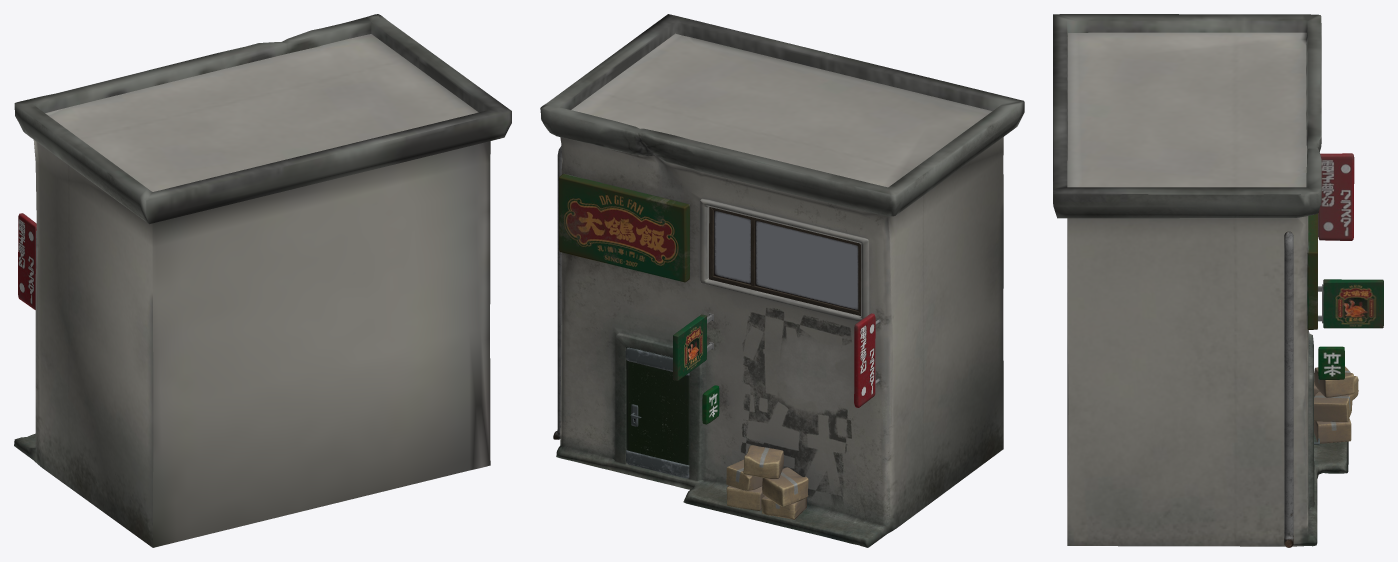
3 renders of one model, left to right at view 1: azimuth 30°, elevation 25°; view 2: azimuth 150°, elevation 25°; view 3: azimuth 270°, elevation 25°, orthographic. The views are drawn at different scales.
Parts seen in each view (by area): view 1: Build13_lp, Build4_lp; view 2: Build13_lp, Build1_lp, Build_2_final__0011:Build21_lp, Build2_lp, Build4_lp, Build_2_final__0011:Build19_lp, Build5_lp, Build14_lp, Build6_lp, Build_2_final__0011:Build18_lp, Build15_lp, Build9_lp (+3 smaller); view 3: Build13_lp, Build_2_final__0011:Build18_lp, Build5_lp, Build4_lp, Build1_lp, Build8_lp, Build3_lp, Build9_lp, Build15_lp.
Boxes of the visible parts, x1,y1,x2,y2 form: Build13_lp: [14, 14, 511, 547]; Build4_lp: [18, 213, 36, 309]; Build13_lp: [540, 14, 1024, 547]; Build1_lp: [559, 173, 689, 282]; Build_2_final__0011:Build21_lp: [714, 210, 858, 310]; Build2_lp: [626, 347, 689, 465]; Build4_lp: [854, 313, 875, 407]; Build_2_final__0011:Build19_lp: [709, 207, 860, 315]; Build5_lp: [673, 314, 706, 380]; Build14_lp: [625, 347, 689, 478]; Build6_lp: [762, 467, 808, 506]; Build_2_final__0011:Build18_lp: [553, 146, 562, 439]; Build15_lp: [743, 445, 783, 478]; Build9_lp: [726, 485, 764, 510]; Build13_lp: [1053, 14, 1348, 546]; Build_2_final__0011:Build18_lp: [1284, 231, 1293, 547]; Build5_lp: [1323, 279, 1383, 328]; Build4_lp: [1318, 153, 1354, 240]; Build1_lp: [1307, 213, 1317, 329]; Build8_lp: [1314, 392, 1352, 422]; Build3_lp: [1318, 346, 1344, 379]; Build9_lp: [1314, 418, 1351, 443]; Build15_lp: [1314, 366, 1354, 397].
Bounding box in the file's own units: 6.11 × 5.7 × 4.74.
Materials: 2 (2 with a texture image).
